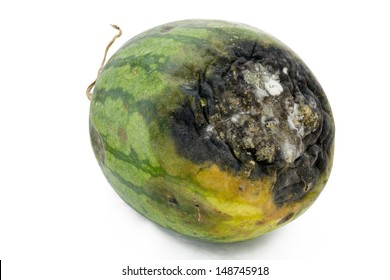rotten: (171, 41, 336, 206)
watermelon: (88, 19, 335, 244)
